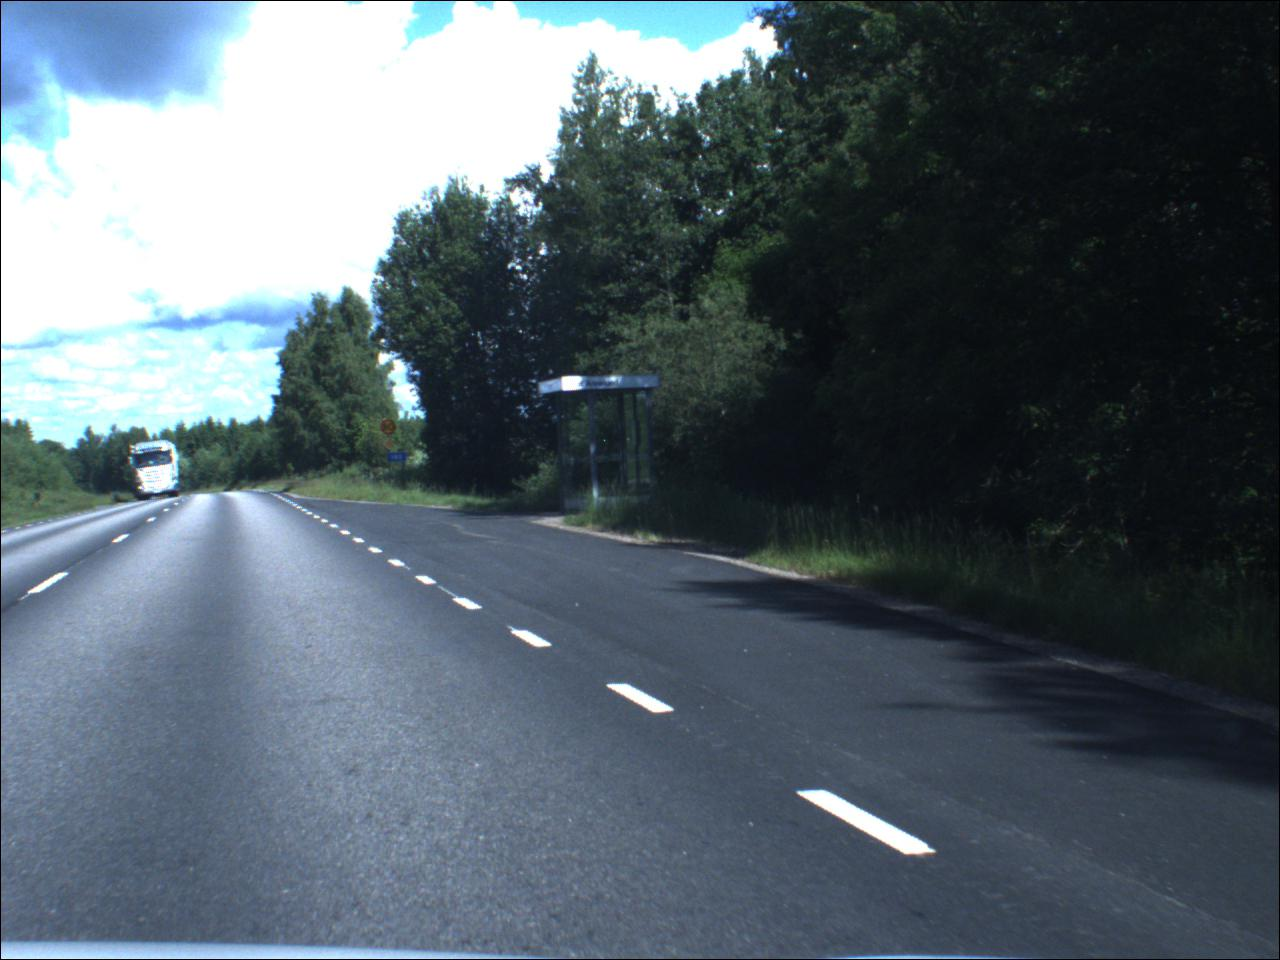80_SIGN: (383, 422, 400, 437)
PRIORITY_ROAD: (385, 440, 398, 452)
